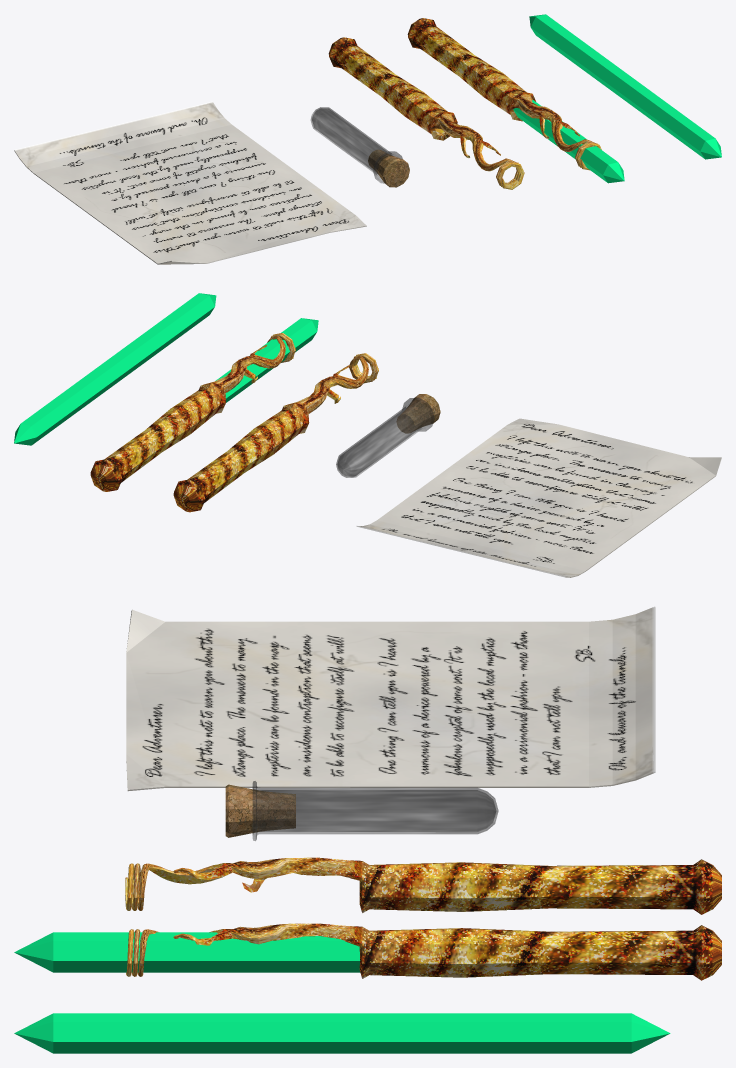
Rendered from ActionObjects.FBX.
3 views of the same model, one above another, from view 1: azimuth 30°, elevation 25°; view 2: azimuth 150°, elevation 25°; view 3: azimuth 270°, elevation 25° (orthographic). The views are drawn at different scales.
Visible parts, largest first — view 1: Message, Crystal with Sleeve, Golden Sleeve, Crystal, Vial of Elixir; view 2: Message, Crystal with Sleeve, Golden Sleeve, Crystal, Vial of Elixir; view 3: Message, Crystal with Sleeve, Crystal, Golden Sleeve, Vial of Elixir.
Part boxes in pixels (left/top/right/bottom): Message: left=14, top=101, right=366, bottom=264; Crystal with Sleeve: left=407, top=18, right=624, bottom=183; Golden Sleeve: left=328, top=37, right=524, bottom=189; Crystal: left=529, top=14, right=721, bottom=159; Vial of Elixir: left=310, top=107, right=409, bottom=187; Message: left=356, top=418, right=721, bottom=577; Crystal with Sleeve: left=90, top=318, right=318, bottom=491; Golden Sleeve: left=173, top=353, right=378, bottom=512; Crystal: left=14, top=293, right=216, bottom=445; Vial of Elixir: left=336, top=394, right=440, bottom=477; Message: left=126, top=606, right=655, bottom=791; Crystal with Sleeve: left=14, top=923, right=721, bottom=980; Crystal: left=14, top=1013, right=670, bottom=1053; Golden Sleeve: left=125, top=857, right=721, bottom=914; Vial of Elixir: left=225, top=781, right=498, bottom=840.
Bounding box in the file's own units: 743 × 504 × 46.06.
